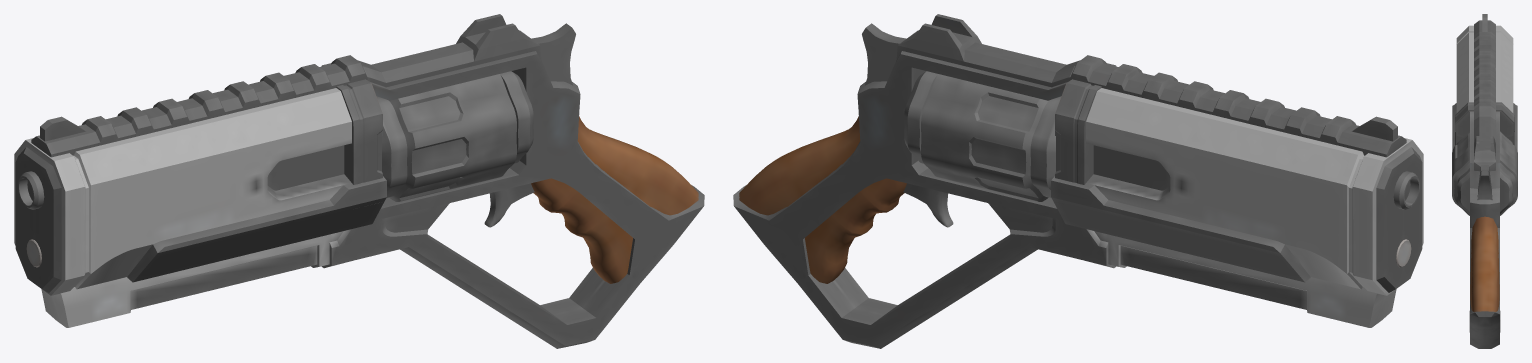
Rendered from gun_revolver.glb.
The picture shows the model from 3 angles, left to right: view 1: azimuth 30°, elevation 25°; view 2: azimuth 150°, elevation 25°; view 3: azimuth 270°, elevation 25°; orthographic projection. The views are drawn at different scales.
Visible parts, largest first — view 1: Gun_Revolver, Gun_Revolver_Barrel; view 2: Gun_Revolver, Gun_Revolver_Barrel; view 3: Gun_Revolver, Gun_Revolver_Barrel.
Boxes of the visible parts, left/top/right/bottom form: Gun_Revolver: left=14, top=14, right=704, bottom=348; Gun_Revolver_Barrel: left=376, top=71, right=533, bottom=201; Gun_Revolver: left=733, top=14, right=1423, bottom=348; Gun_Revolver_Barrel: left=904, top=71, right=1061, bottom=201; Gun_Revolver: left=1452, top=14, right=1517, bottom=348; Gun_Revolver_Barrel: left=1452, top=131, right=1517, bottom=215.
Size of the model in its own units: 0.5306 by 0.2616 by 0.0814.
Materials: 1 (1 with a texture image).
